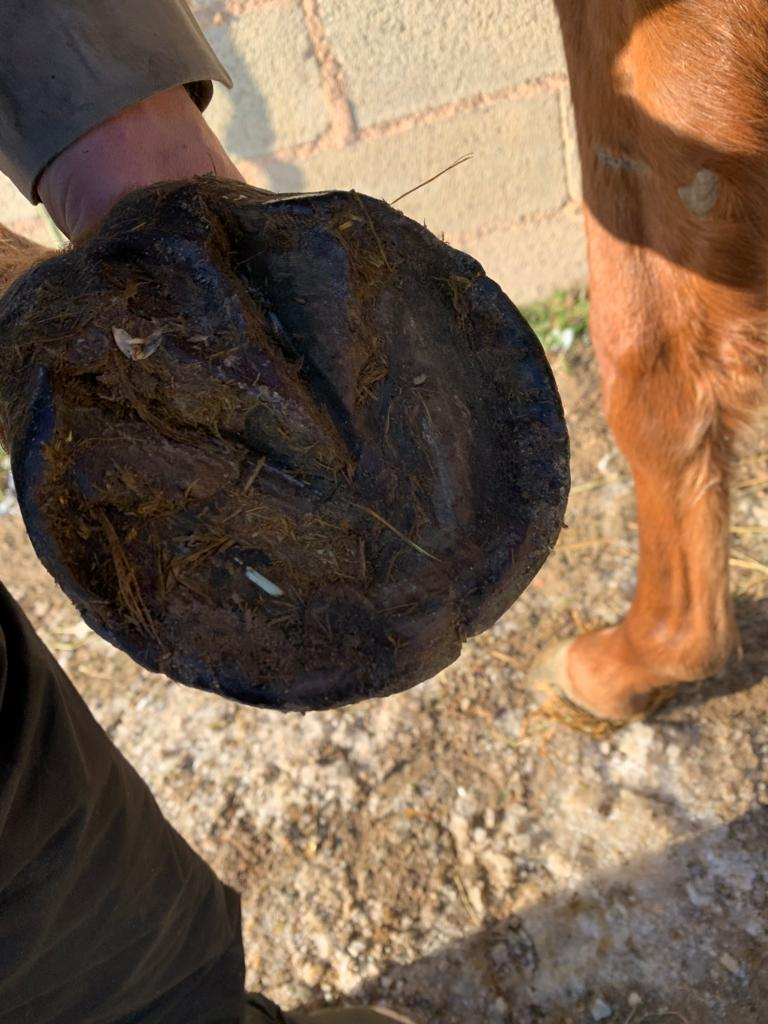horsesole: (13, 191, 573, 713)
